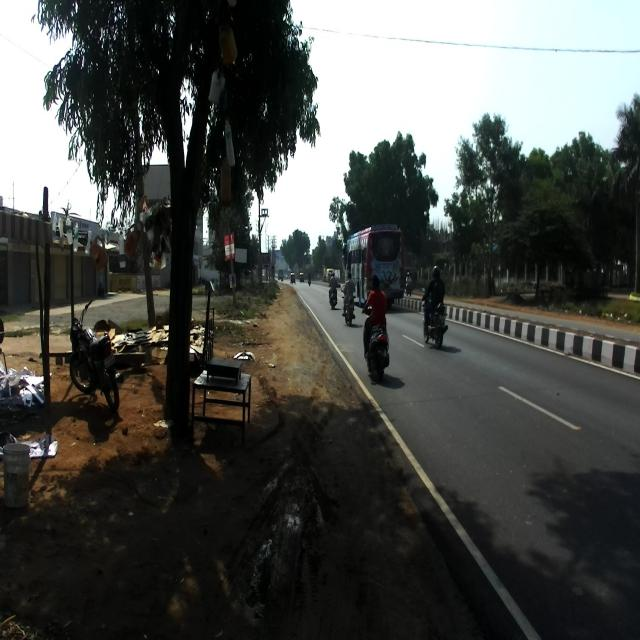motorcycle: (69, 299, 123, 411)
motorcycle_bajaj: (421, 286, 448, 348)
scooter: (359, 296, 390, 381)
